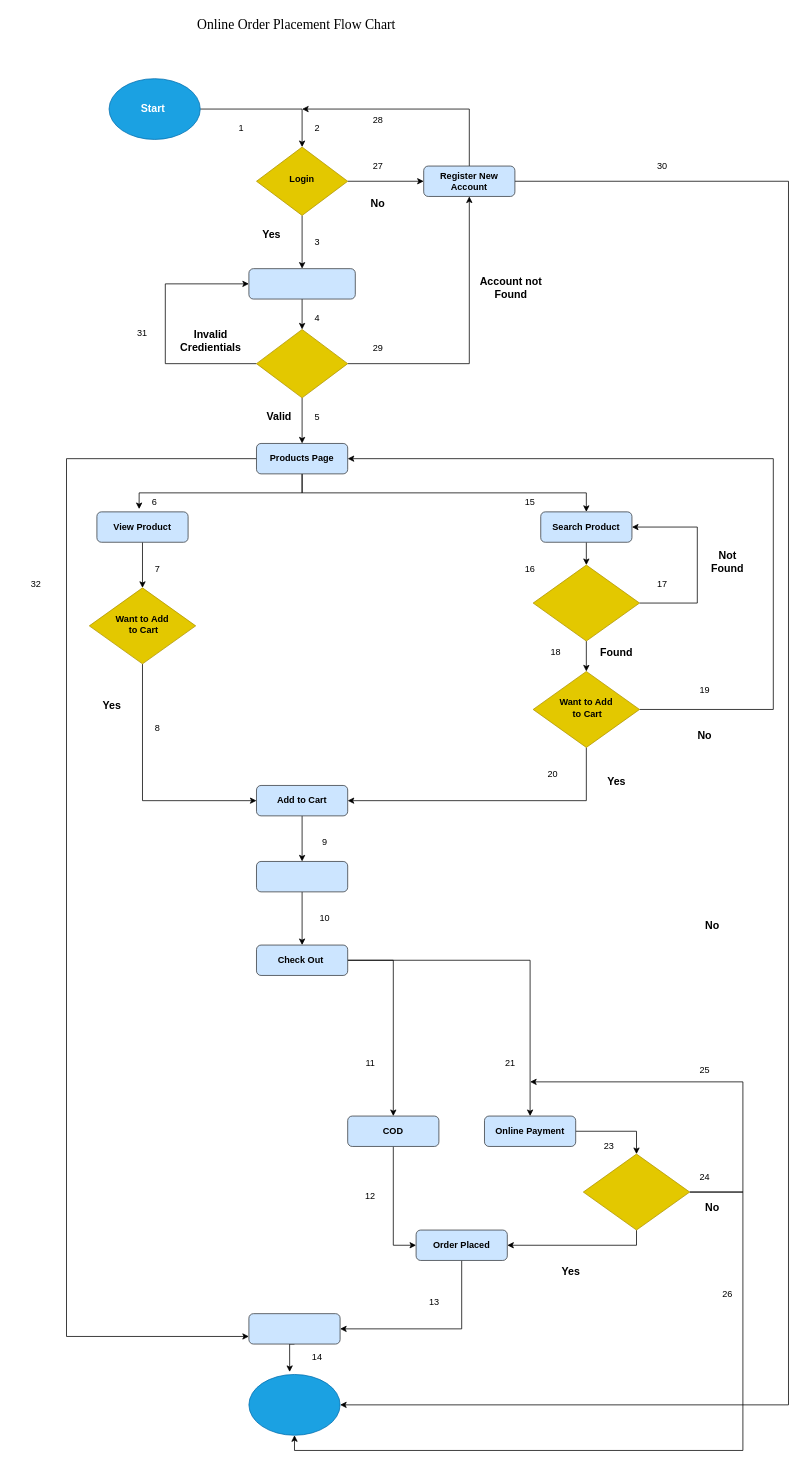
Some shapes in this 808 by 1470 pixel diagram are drawn without their labels. Each missing label, with the box of its shape:
END: (248, 1374, 340, 1435)
Enter Email and Password: (248, 268, 355, 299)
Log out: (248, 1313, 340, 1344)
Payment Verified: (583, 1153, 690, 1230)
Search Product in list: (532, 564, 640, 641)
Verify User Credential's: (256, 329, 348, 398)
View Cart: (256, 861, 348, 892)
